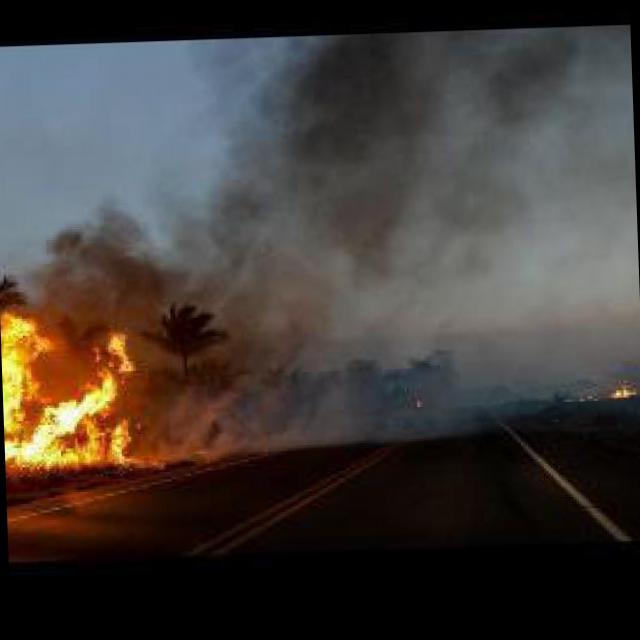fire: (0, 280, 169, 505), (608, 382, 638, 395)
smoke: (90, 22, 640, 350)
